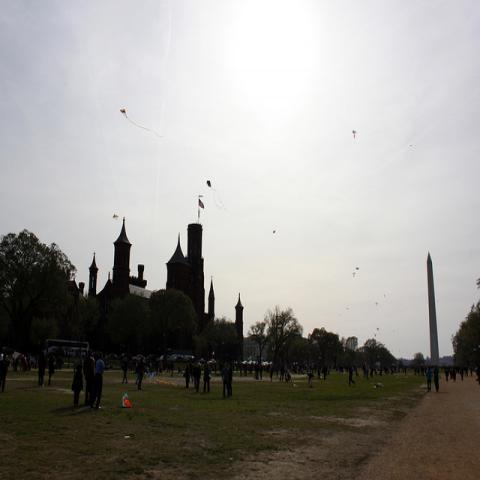bus: (46, 340, 89, 360)
car: (153, 353, 186, 374), (186, 356, 194, 363)
